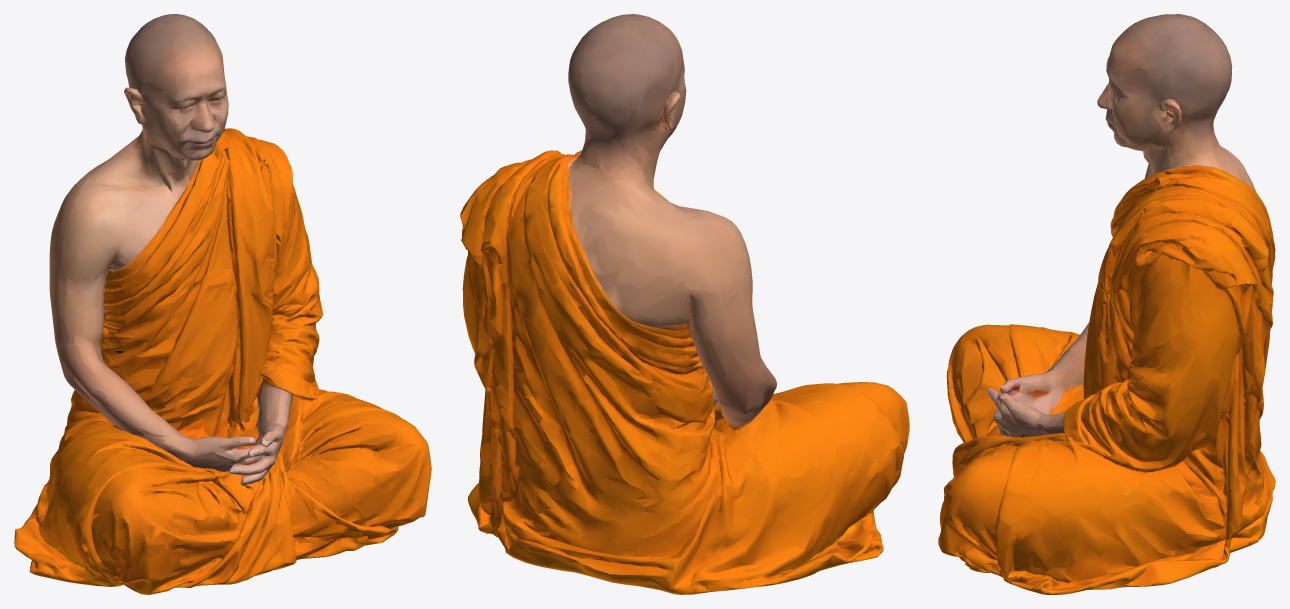
The model's file is monk.glb.
3 views of the same model, side by side, from view 1: azimuth 30°, elevation 25°; view 2: azimuth 150°, elevation 25°; view 3: azimuth 270°, elevation 25° (orthographic). The views are drawn at different scales.
Visible parts, largest first — view 1: Mesh_0; view 2: Mesh_0; view 3: Mesh_0.
Boxes of the visible parts, x1,y1,x2,y2 form: Mesh_0: (14,14,431,594); Mesh_0: (460,14,909,594); Mesh_0: (938,14,1275,594).
Size of the model in its own units: 0.7827 by 1 by 0.6191.
Materials: 1 (1 with a texture image).
